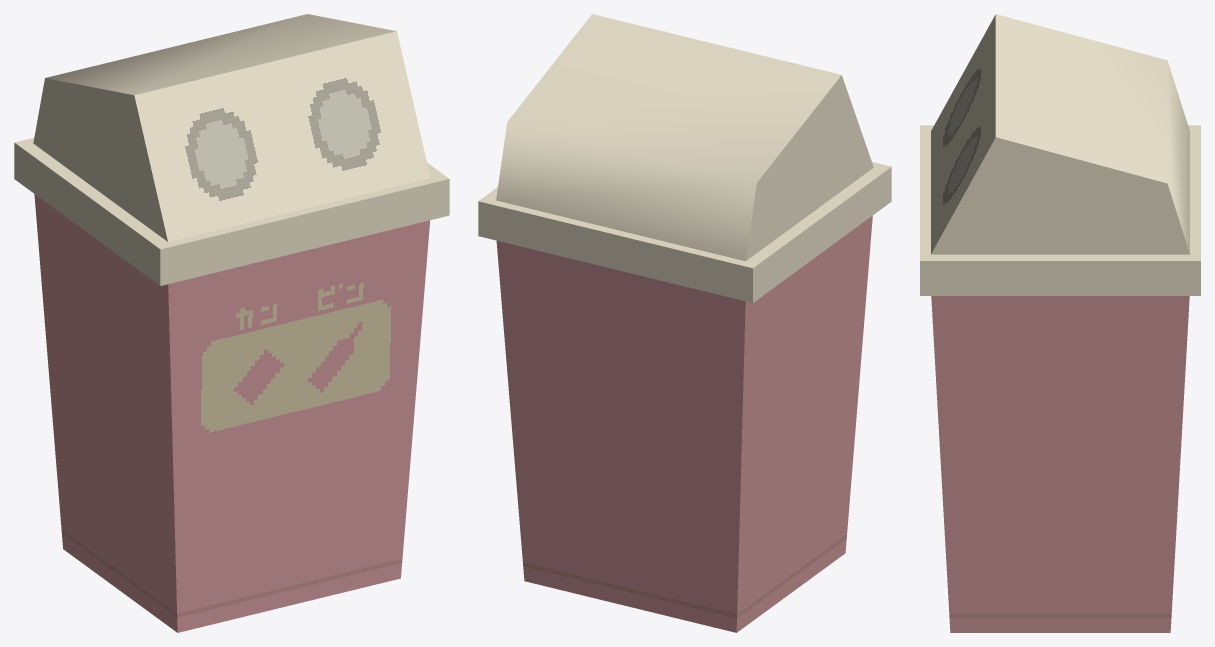
The model's file is 00b6_Recycling_Bin.glb.
The picture shows the model from 3 angles, left to right: view 1: azimuth 30°, elevation 25°; view 2: azimuth 150°, elevation 25°; view 3: azimuth 270°, elevation 25°; orthographic projection. The views are drawn at different scales.
Visible parts, largest first — view 1: part_0; view 2: part_0; view 3: part_0.
Part boxes in pixels (x1=…): part_0: x1=14, y1=14, x2=449, y2=632; part_0: x1=478, y1=14, x2=891, y2=632; part_0: x1=920, y1=14, x2=1200, y2=632.
Bounding box in the file's own units: 0.4953 × 0.86 × 0.4334.
1 material, 1 textured.
